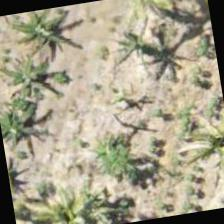Kelapa_Sawit: (19, 163, 119, 223), (165, 96, 223, 195)
